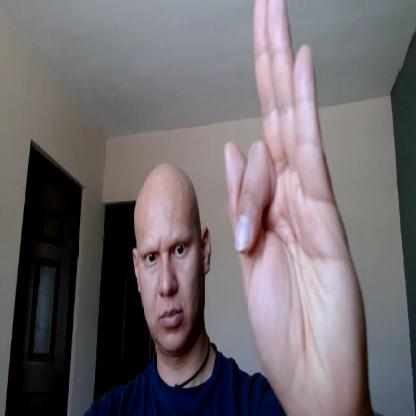F: (225, 1, 365, 415)
